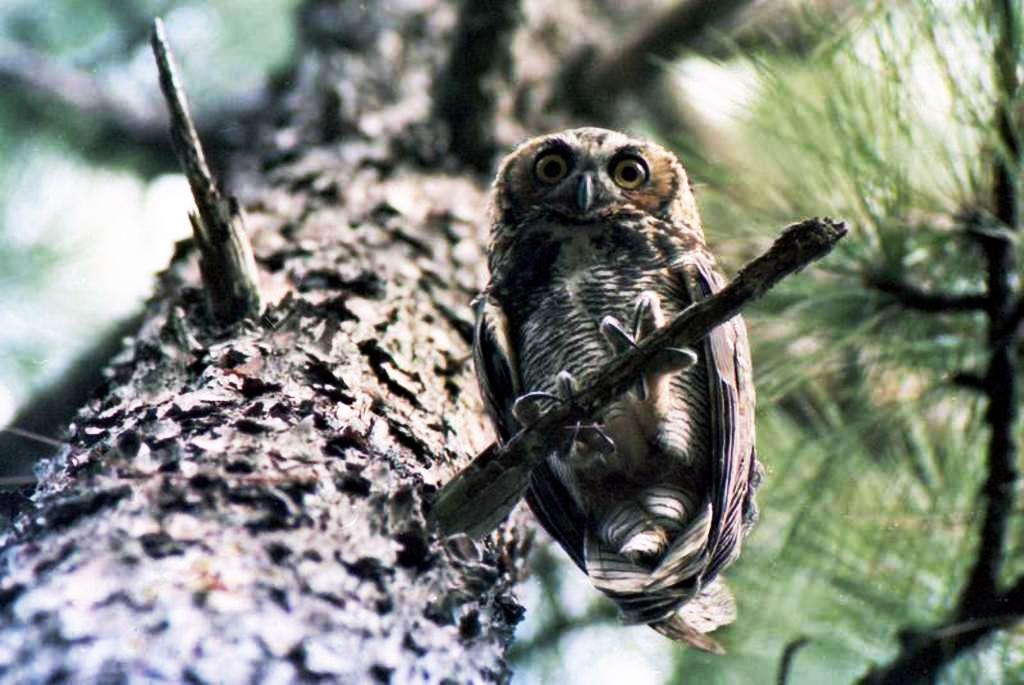Owl: (468, 121, 762, 660)
